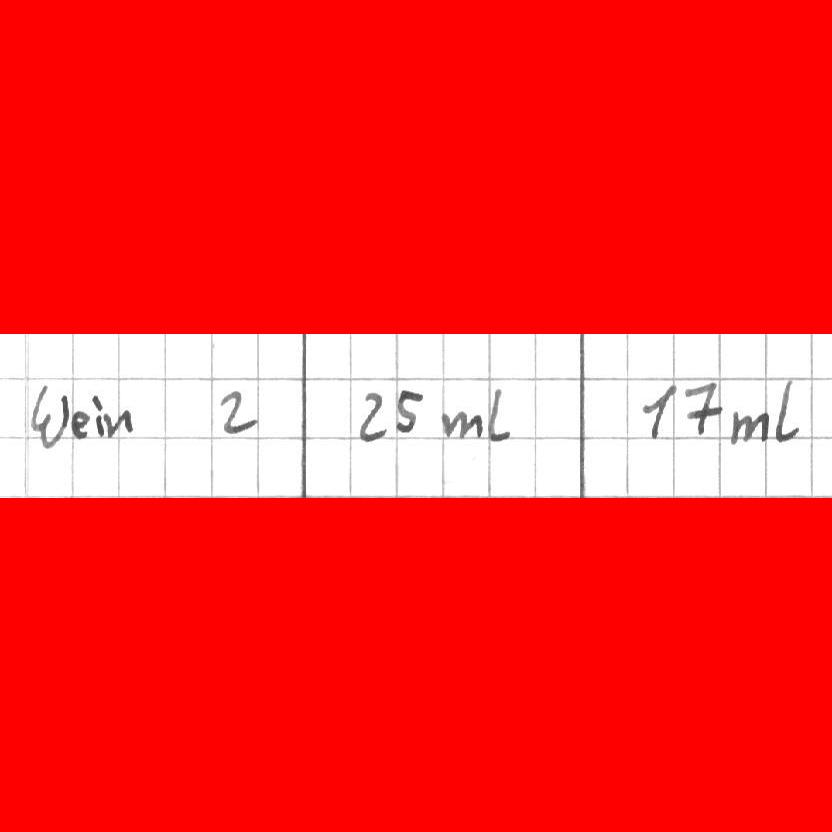Char: (30, 385, 70, 449), (680, 378, 719, 439), (638, 384, 677, 441), (772, 377, 804, 443), (218, 387, 259, 437), (356, 388, 388, 445), (439, 407, 483, 443), (394, 385, 422, 437), (730, 406, 766, 446), (486, 385, 510, 444), (104, 408, 133, 438), (90, 391, 105, 438), (71, 408, 91, 440)
